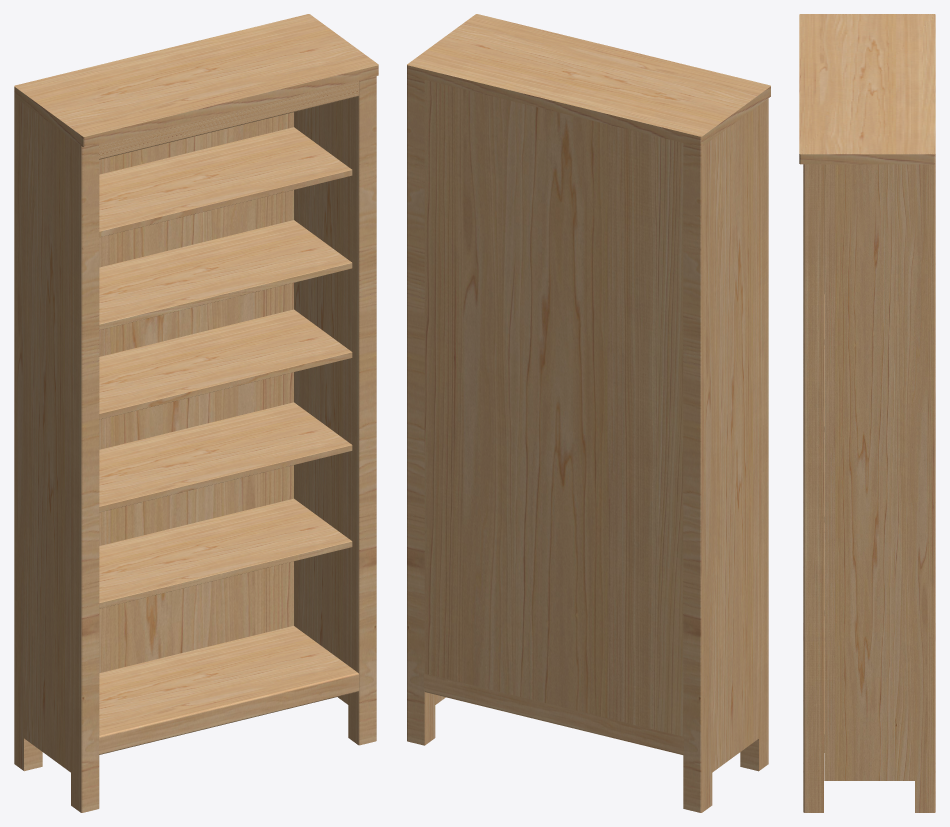
File: hemnesbookcase.fbx
The picture shows the model from 3 angles, left to right: view 1: azimuth 30°, elevation 25°; view 2: azimuth 150°, elevation 25°; view 3: azimuth 270°, elevation 25°; orthographic projection. The views are drawn at different scales.
Parts seen in each view (by area): view 1: IKE160182; view 2: IKE160182; view 3: IKE160182.
Part boxes in pixels (x1,y1,x2,y2): IKE160182: (14,14,378,812); IKE160182: (407,14,770,812); IKE160182: (799,14,935,812).
Bounding box in the file's own units: 90000 × 197000 × 37000.
1 material, 1 textured.
